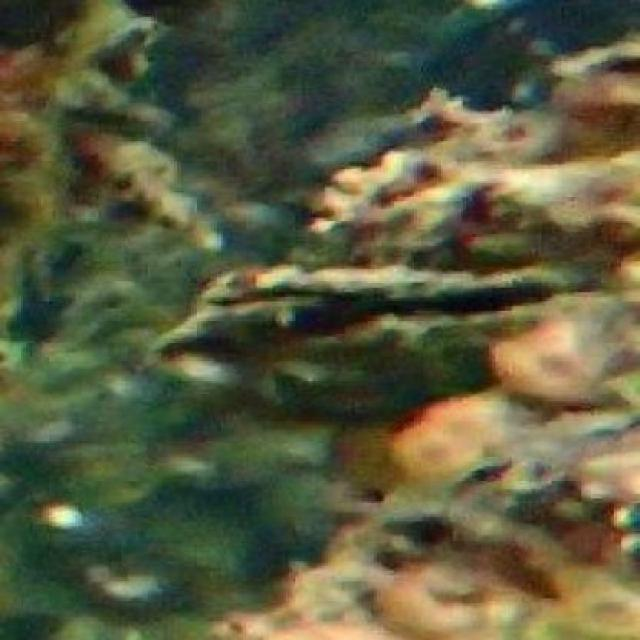Oyster-Closed: (198, 264, 579, 415)
